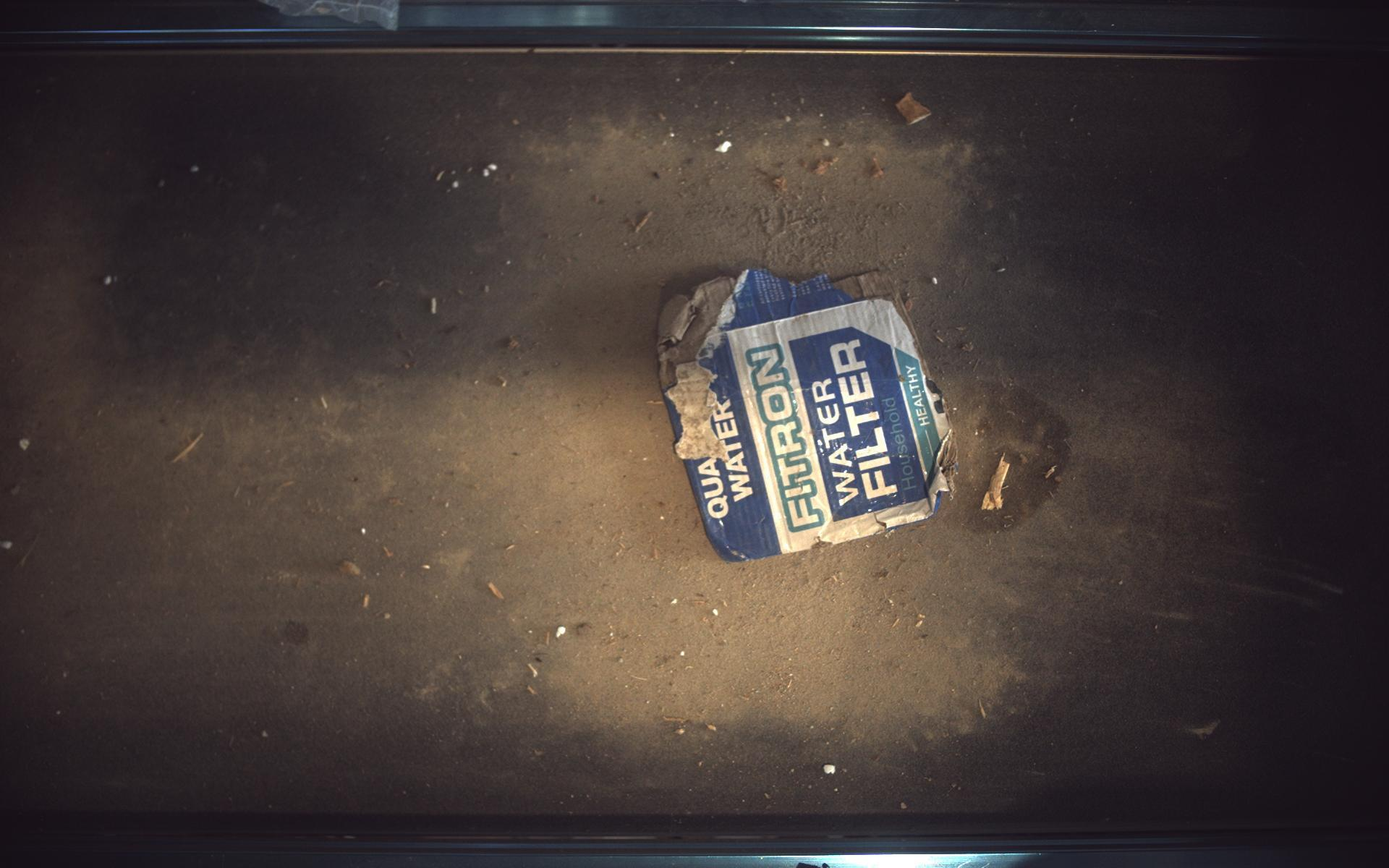general_w: (658, 269, 957, 561)
